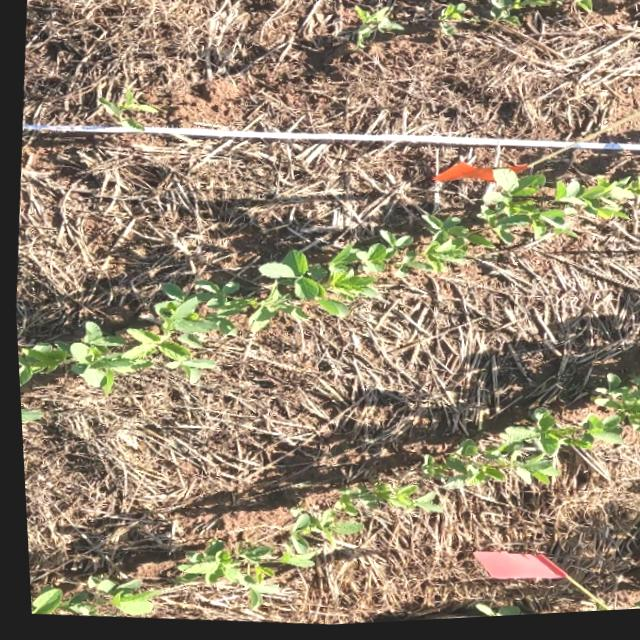soy_plant: (14, 173, 640, 391), (171, 484, 436, 609), (415, 380, 640, 492), (24, 576, 151, 617), (489, 0, 601, 30), (97, 89, 156, 130), (354, 9, 403, 49), (438, 3, 486, 39)
